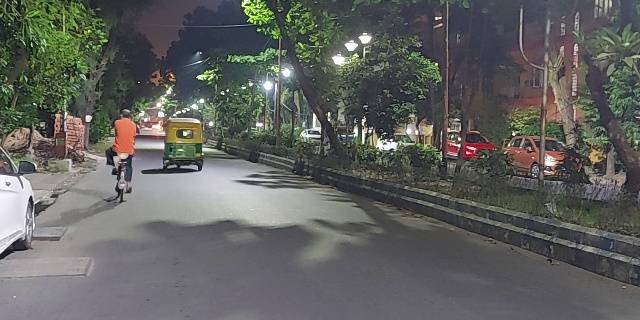Autorickshaw: (162, 117, 203, 172)
Cycle: (106, 108, 142, 206)
